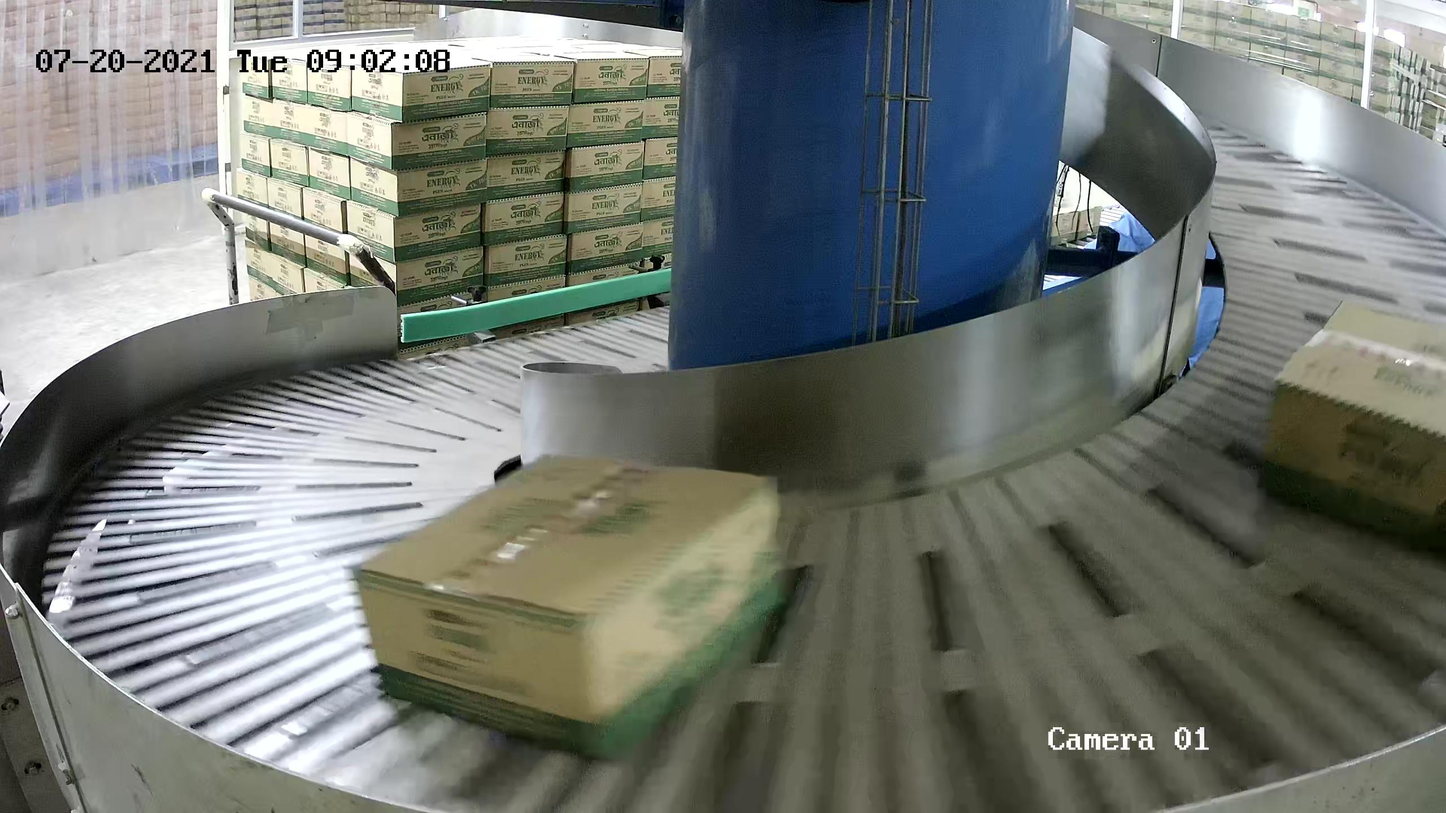Box: (350, 451, 789, 765), (1253, 296, 1446, 558)
